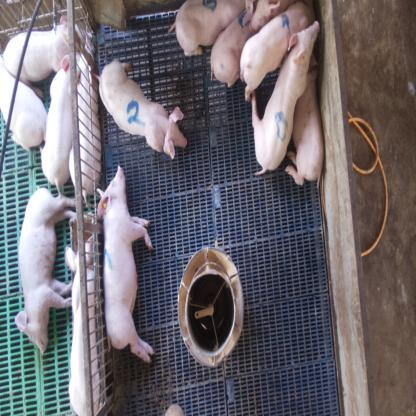1: (280, 11, 290, 36)
2: (127, 99, 144, 128)
N-A: (275, 112, 287, 141)
